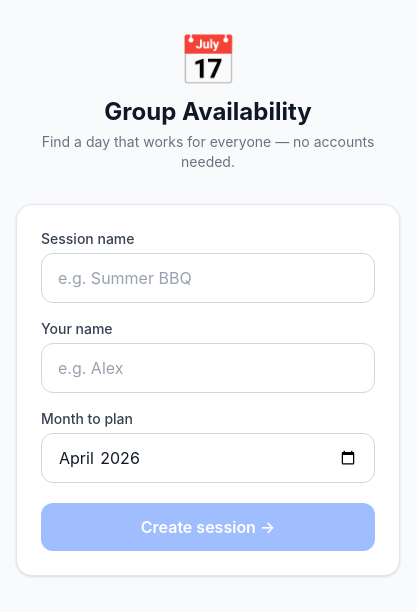
it: Home › shows an error message when createSession rejects
Type "BBQ" into the field with placeholder "e.g. Summer BBQ" at (208, 278), box [41,253,375,303]
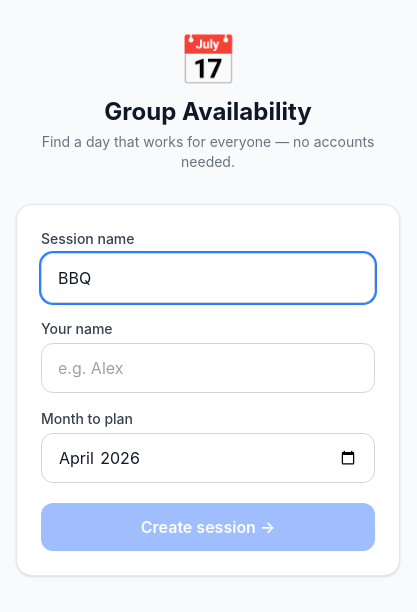
Type "Alice" into the field with placeholder "e.g. Alex" at (208, 368), box [41,343,375,393]
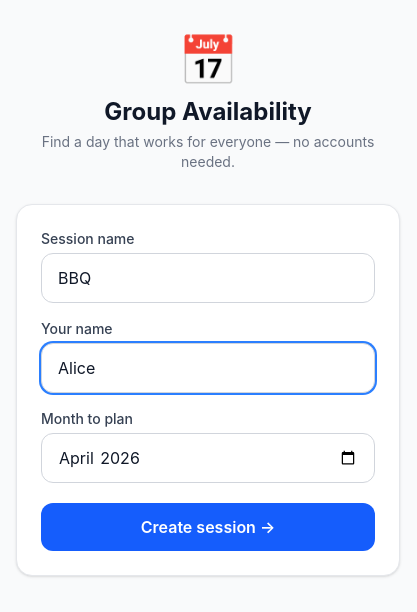
Click the button "Create session →" at (208, 527), box [41,503,375,551]
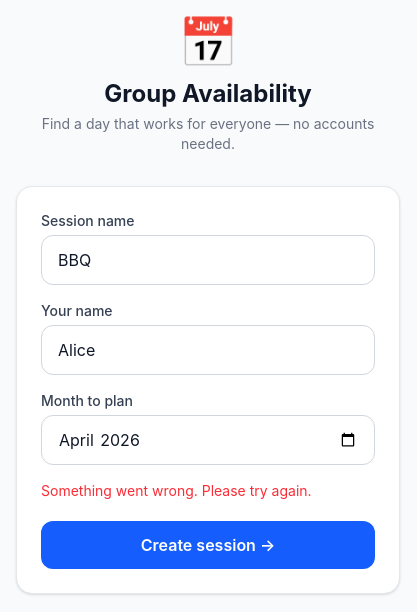
Expected: the text "Something went wrong. Please try again." is shown, [41,482,312,499]
